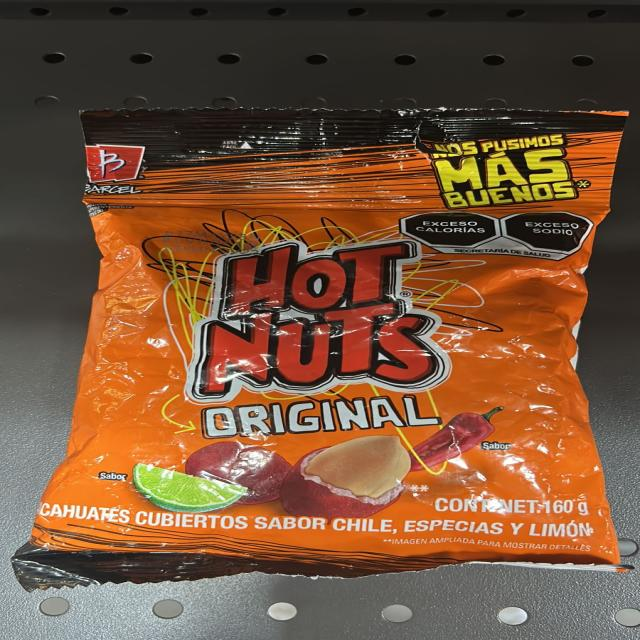leoMix: (100, 126, 594, 555)
